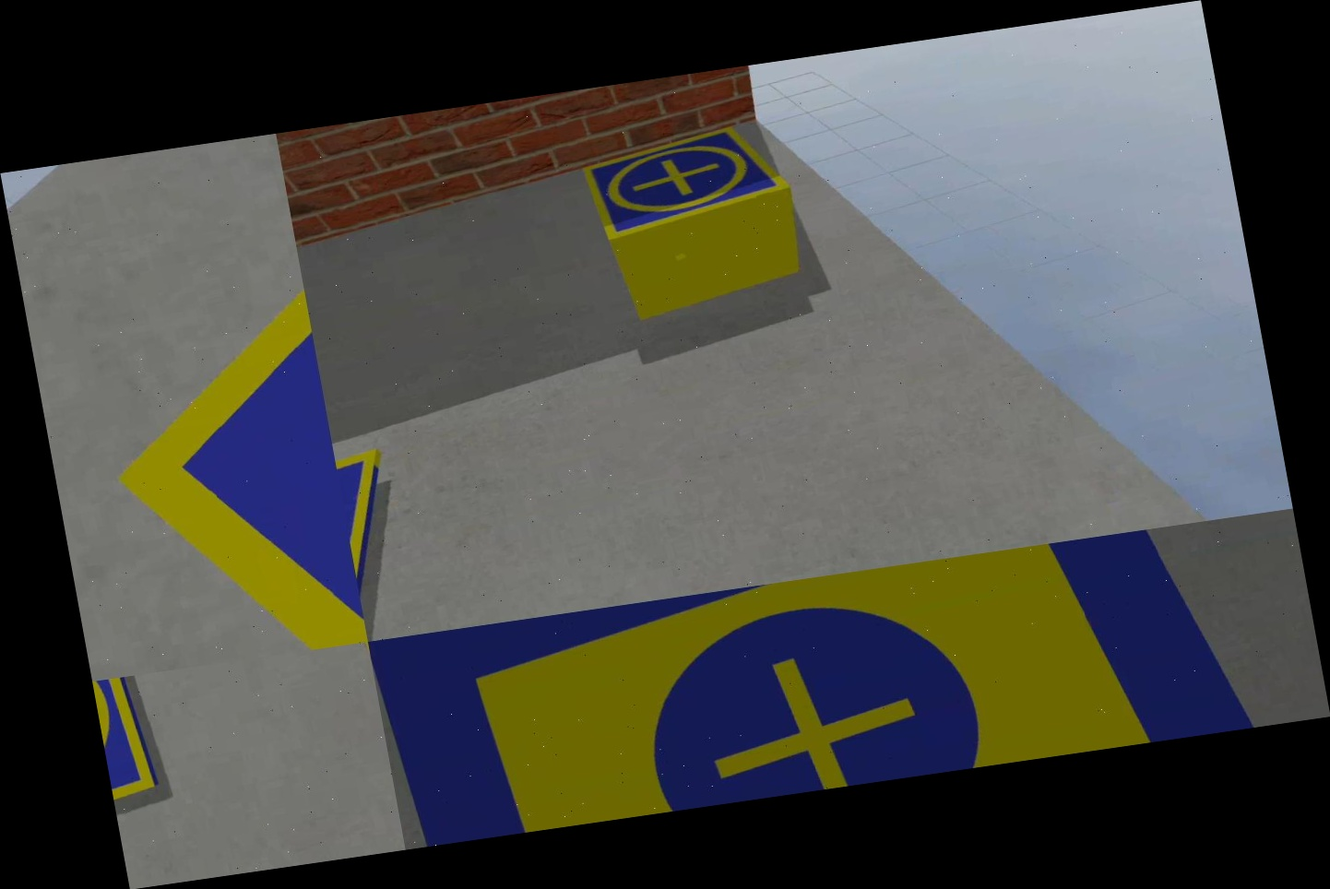large_base: (368, 512, 1305, 849)
small_base: (30, 134, 368, 677), (576, 116, 798, 247), (334, 445, 431, 642)
